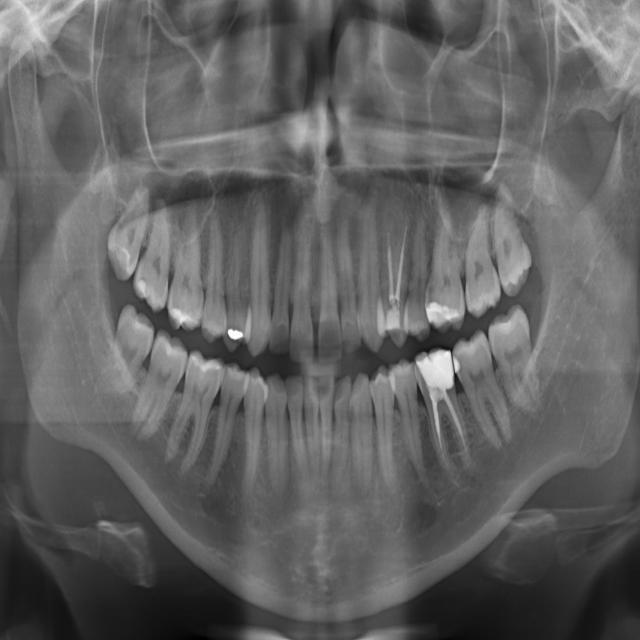3M ESPE Implant: (94, 177, 161, 285)
AGS Medikal Implant: (443, 326, 522, 465)
AMerOss Implant: (412, 343, 477, 485)
Amalgam filling: (129, 194, 176, 313)
Anthogyr Implant: (389, 356, 436, 493)
Bicon Implant: (369, 363, 405, 495)
BioHorizons Implant: (351, 372, 373, 497)
BioLife Implant: (332, 375, 352, 495)
Biomet 3i Implant: (320, 374, 335, 480)
Blue Sky Bio Implant: (303, 373, 321, 479)
Camlog Implant: (284, 371, 308, 478)
Caries: (328, 215, 363, 355)
Composite filling: (265, 373, 286, 504)
Cowellmedi Implant: (231, 366, 270, 508)
Crown: (202, 359, 251, 494)
DENTSPLY Implant: (165, 201, 214, 333)
Dentatus Implant: (159, 346, 228, 480)
Dentis Implant: (155, 399, 155, 400)
Dentium Implant: (90, 303, 163, 406)
Euroteknika Implant: (201, 210, 232, 345)
Filling: (223, 201, 252, 355)
Frontier Implant: (246, 197, 277, 358)
Hiossen Implant: (352, 186, 385, 354)
Implant: (289, 214, 315, 366)
Implant Direct: (267, 215, 295, 357)
Keystone Dental Implant: (305, 212, 344, 367)
MIS Implant: (381, 200, 413, 347)
Mandible: (404, 212, 430, 344)
Maxilla: (425, 199, 472, 335)
Megagen Implant: (455, 201, 504, 320)
Neodent Implant: (488, 180, 535, 298)
Neoss Implant: (482, 301, 552, 419)
